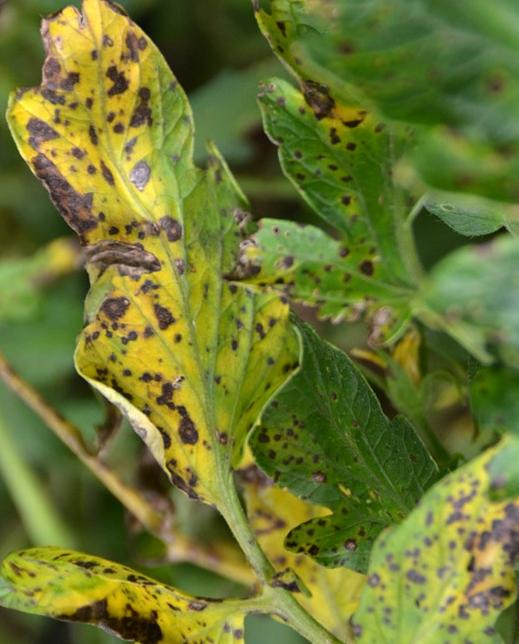Tomato Septoria leaf spot: (0, 0, 297, 521), (246, 0, 455, 346), (363, 437, 519, 644), (0, 543, 262, 644)
